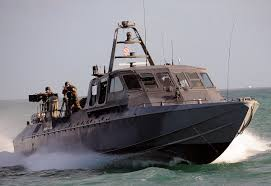boat: (13, 19, 260, 166)
